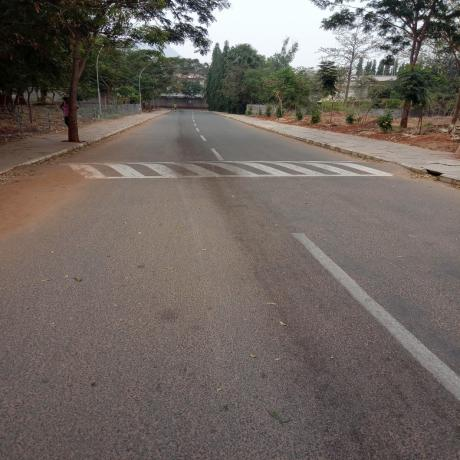Speed Bump: (14, 160, 408, 178)
